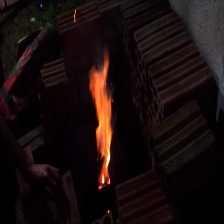fire: (81, 50, 123, 189)
